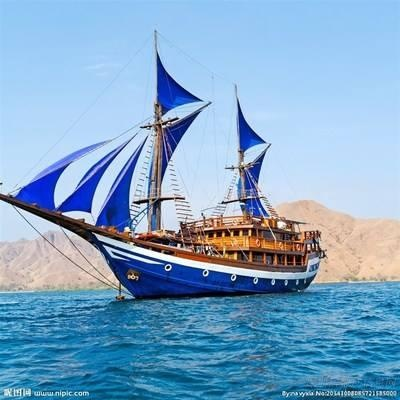fanchuan: (2, 29, 329, 301)
